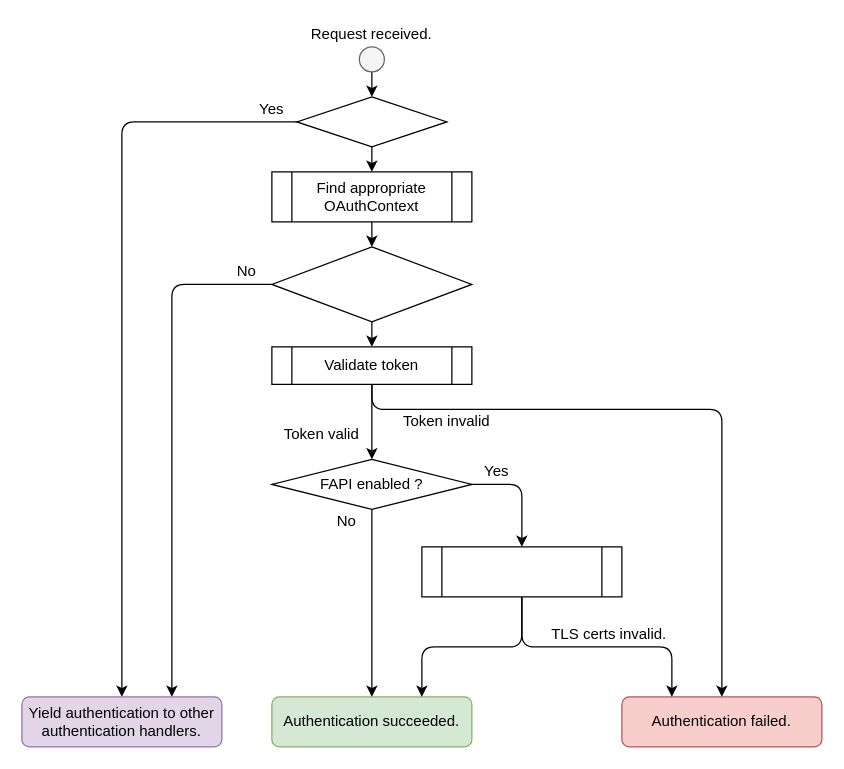
The diagram is 844 pixels wide and 769 high, and some of its shapes have lost their labels. The box of each missing label's shape, as (x1, y1, x2, y2) in pixels:
Check TLS certs. Check headers.: (421, 546, 622, 597)
Skip ?: (296, 96, 447, 147)
Token exists in request header ?: (271, 246, 472, 322)
